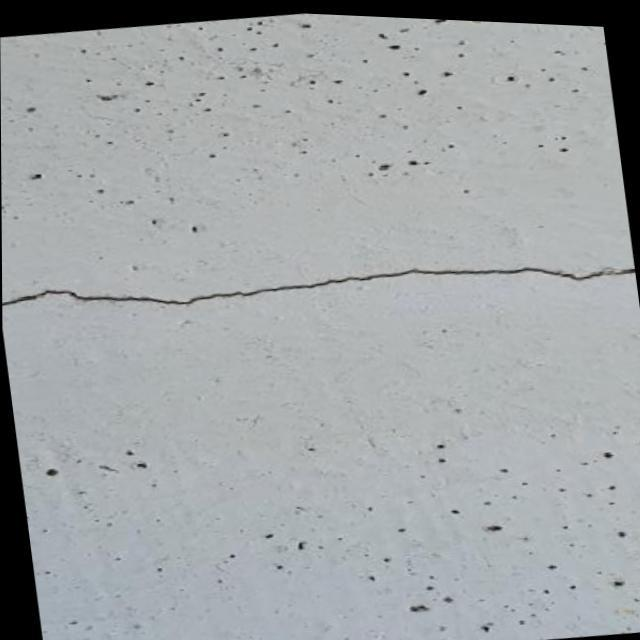Crack: (16, 264, 625, 308)
